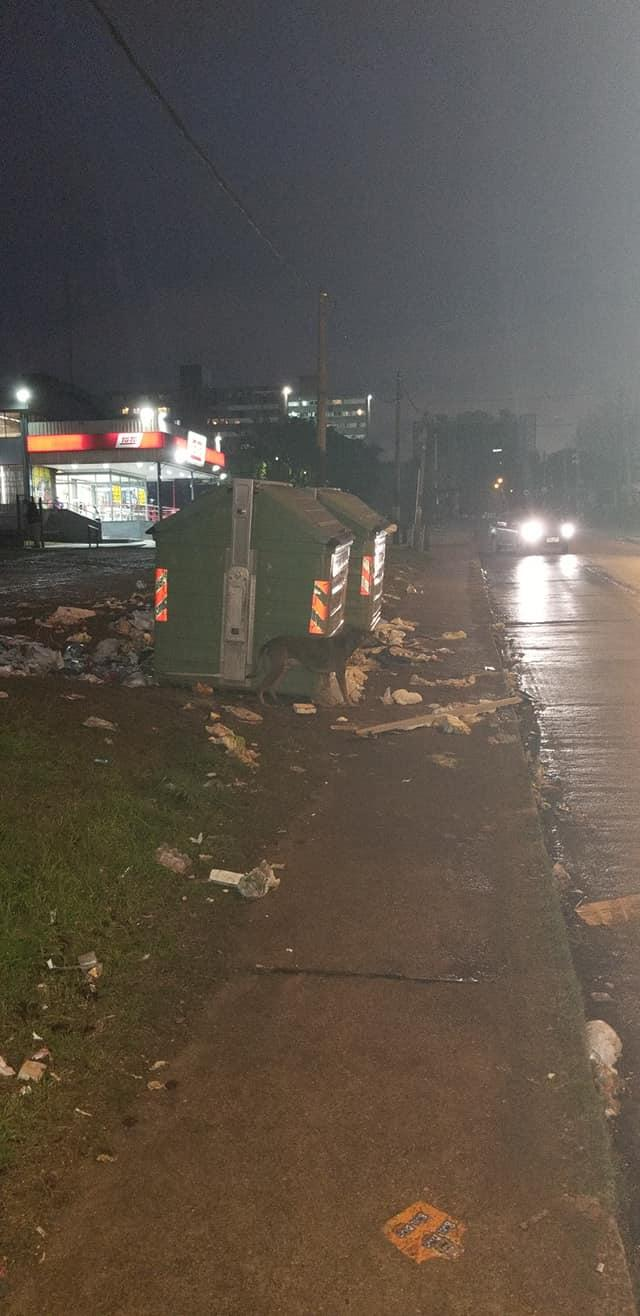Dechets: (380, 598, 525, 775), (6, 558, 149, 696), (172, 686, 315, 795), (370, 1162, 466, 1284), (558, 974, 635, 1096), (198, 840, 283, 911), (2, 1027, 56, 1114), (570, 886, 640, 943)
Trash: (153, 478, 394, 701)
